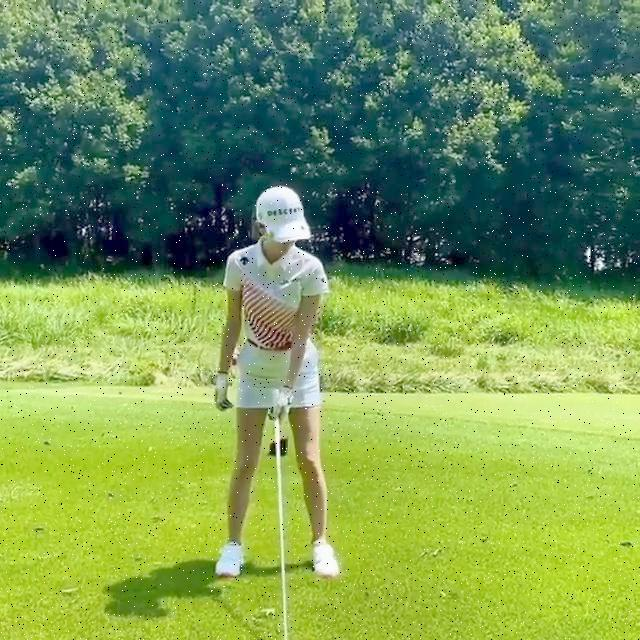ClubHandle: (269, 384, 297, 640)
